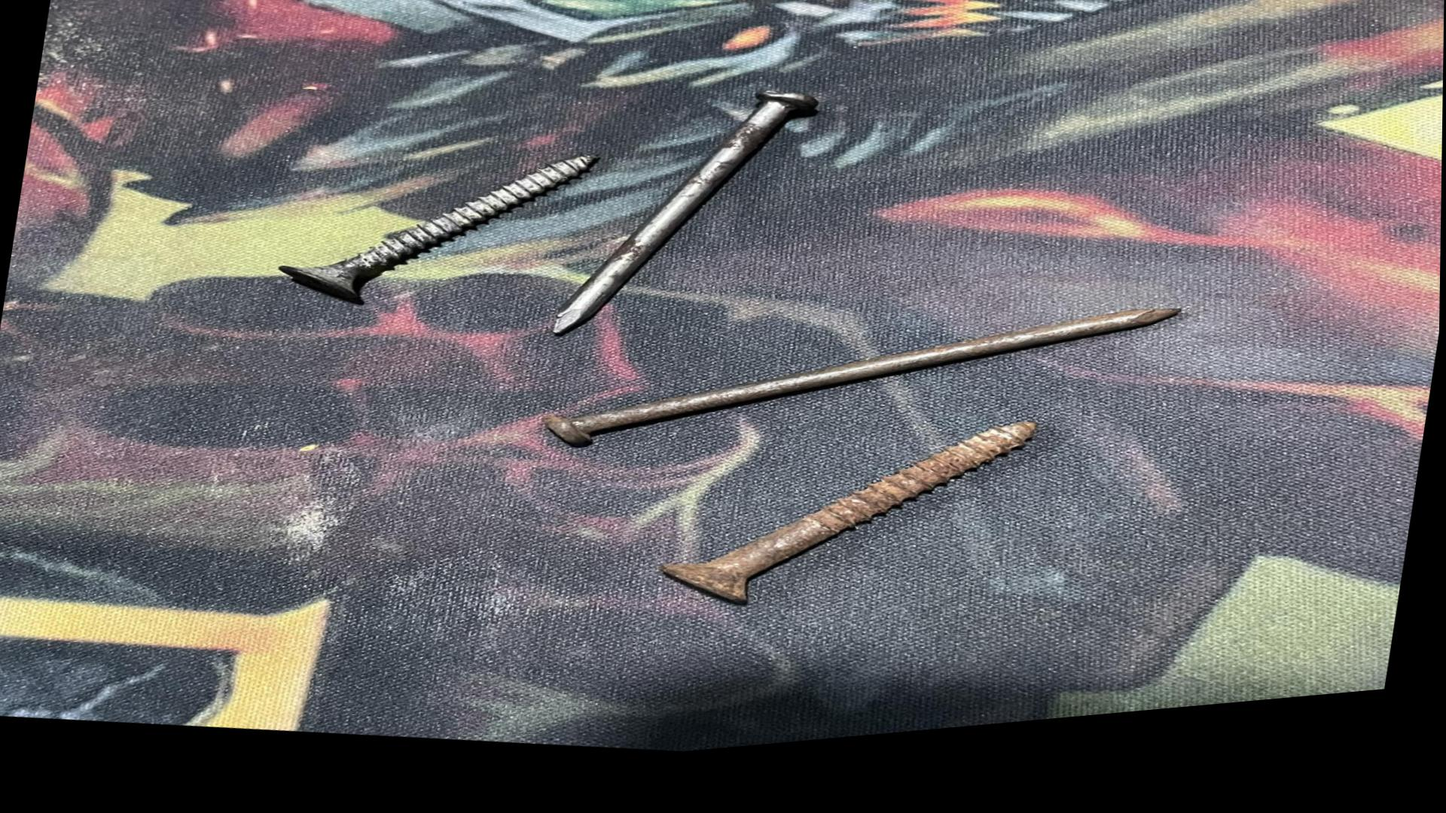nail: (486, 215, 1241, 561), (524, 55, 888, 383)
screw: (630, 378, 1091, 671), (184, 101, 609, 361)
